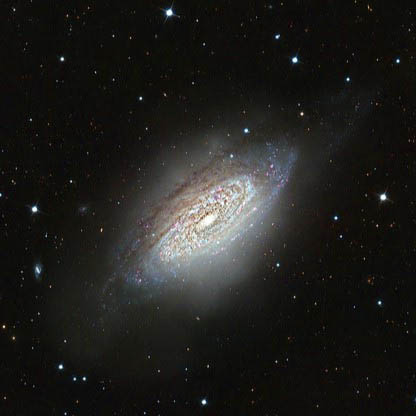NGC 3521: (27, 49, 391, 381)
